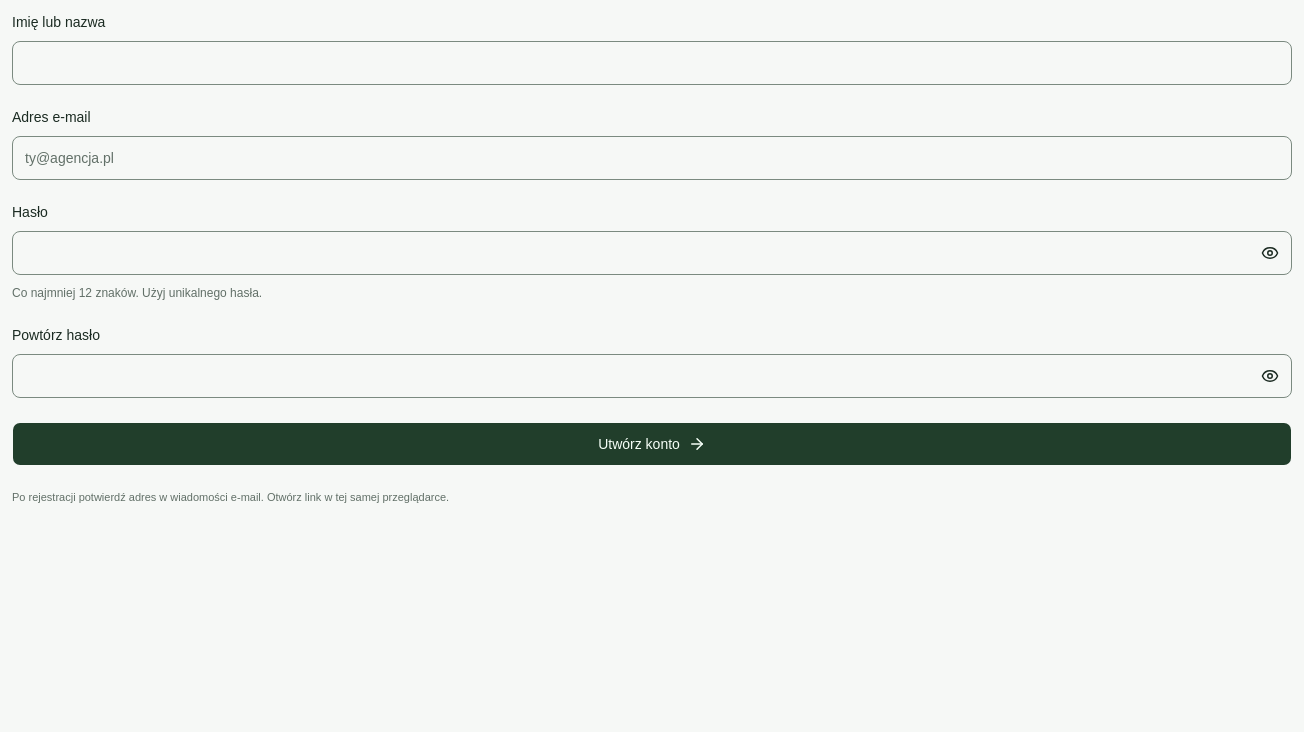
Test case: email registration form › keeps the form available after an error, focuses feedback and does not echo server text
This screenshot has width=1304, height=732.
Type " Test Person " into the field labelled "Imię lub nazwa" at (652, 63), box [12,41,1292,85]
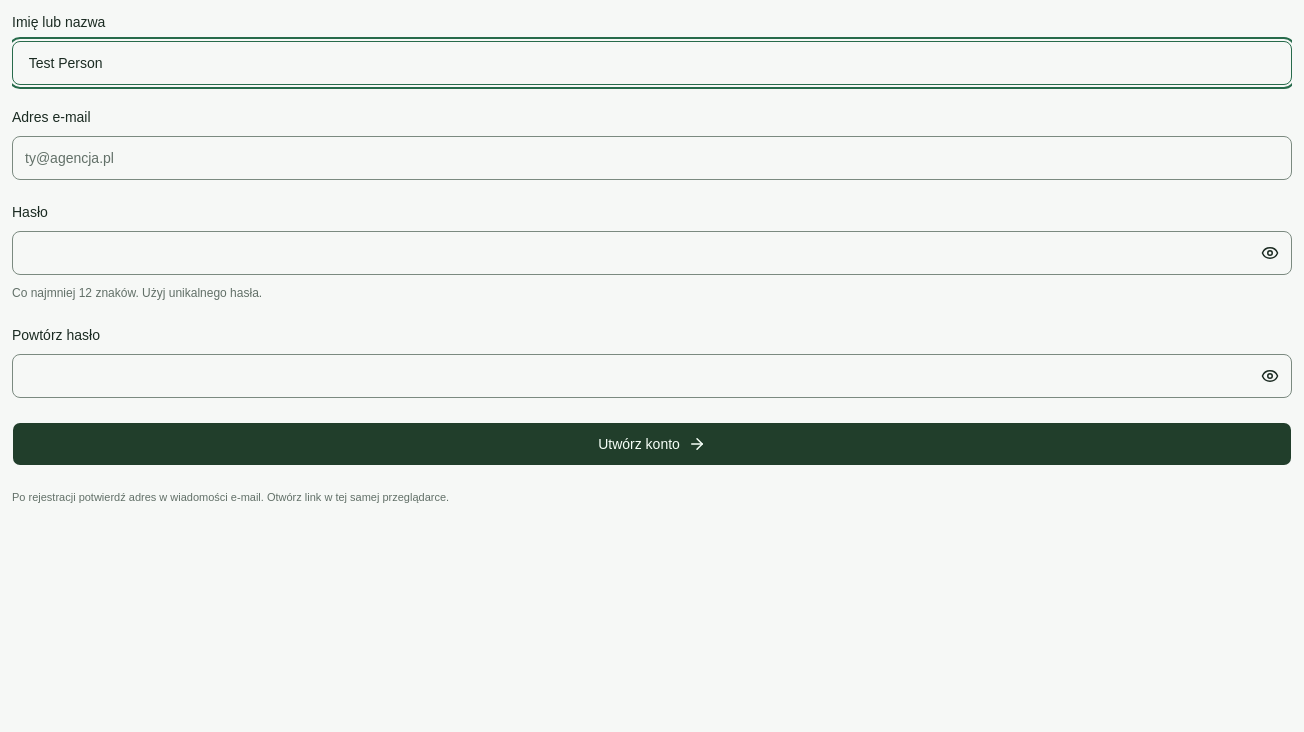
Type " PERSON@Example.test " into the field labelled "Adres e-mail" at (652, 158), box [12,136,1292,180]
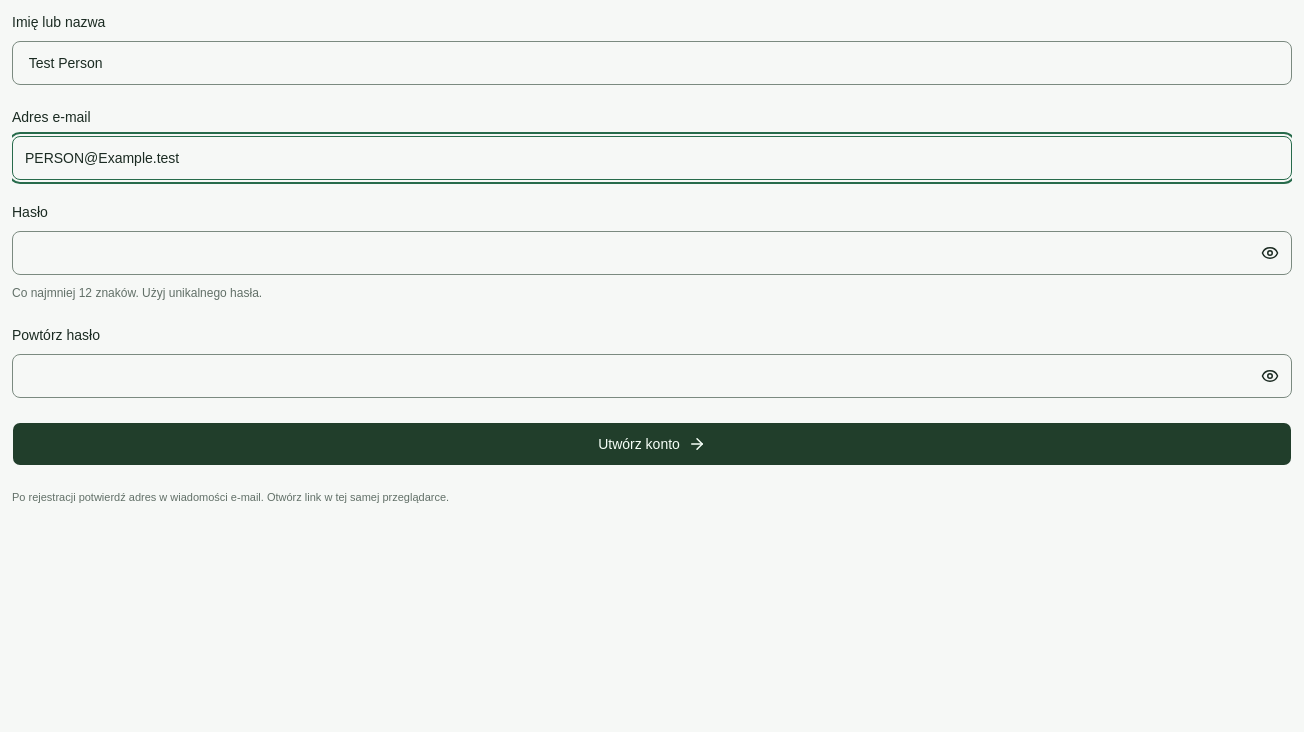
Type "unique-test-only-password" into the password field labelled "Hasło" at (652, 253), box [12,231,1292,275]
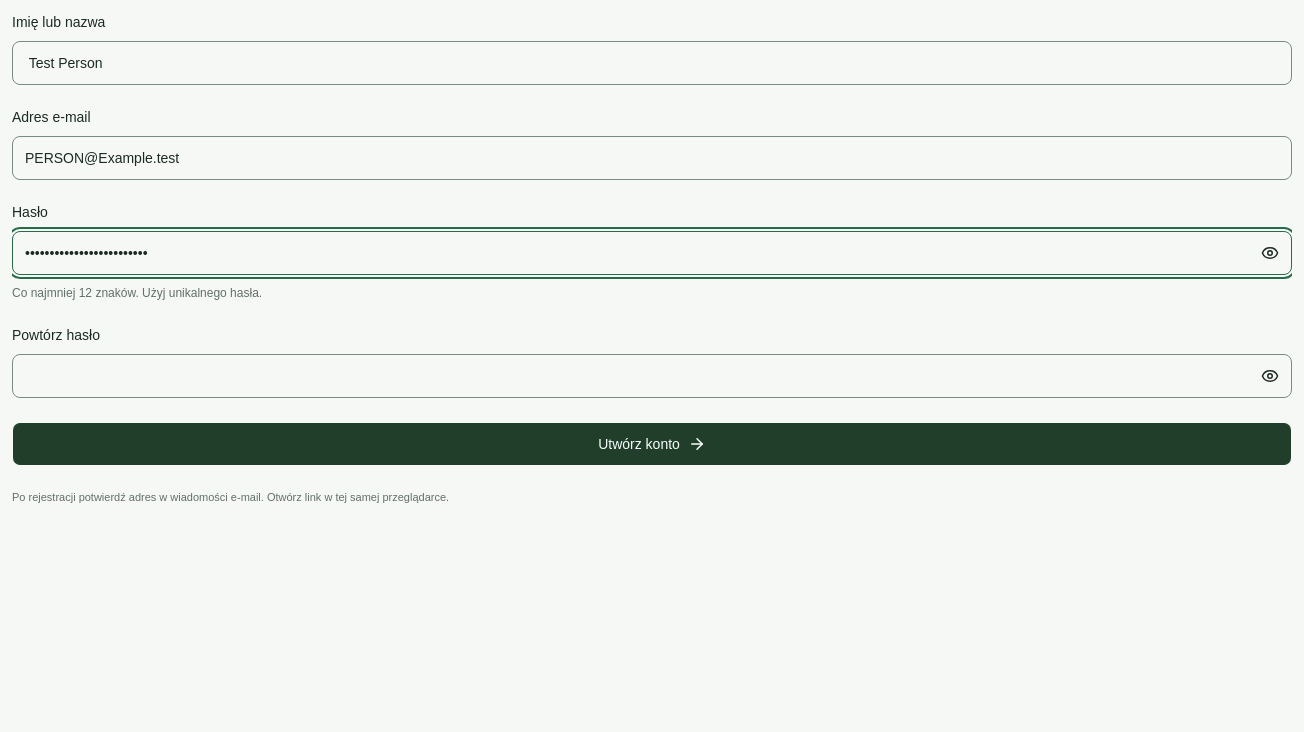
Type "unique-test-only-password" into the password field labelled "Powtórz hasło" at (652, 376), box [12,354,1292,398]
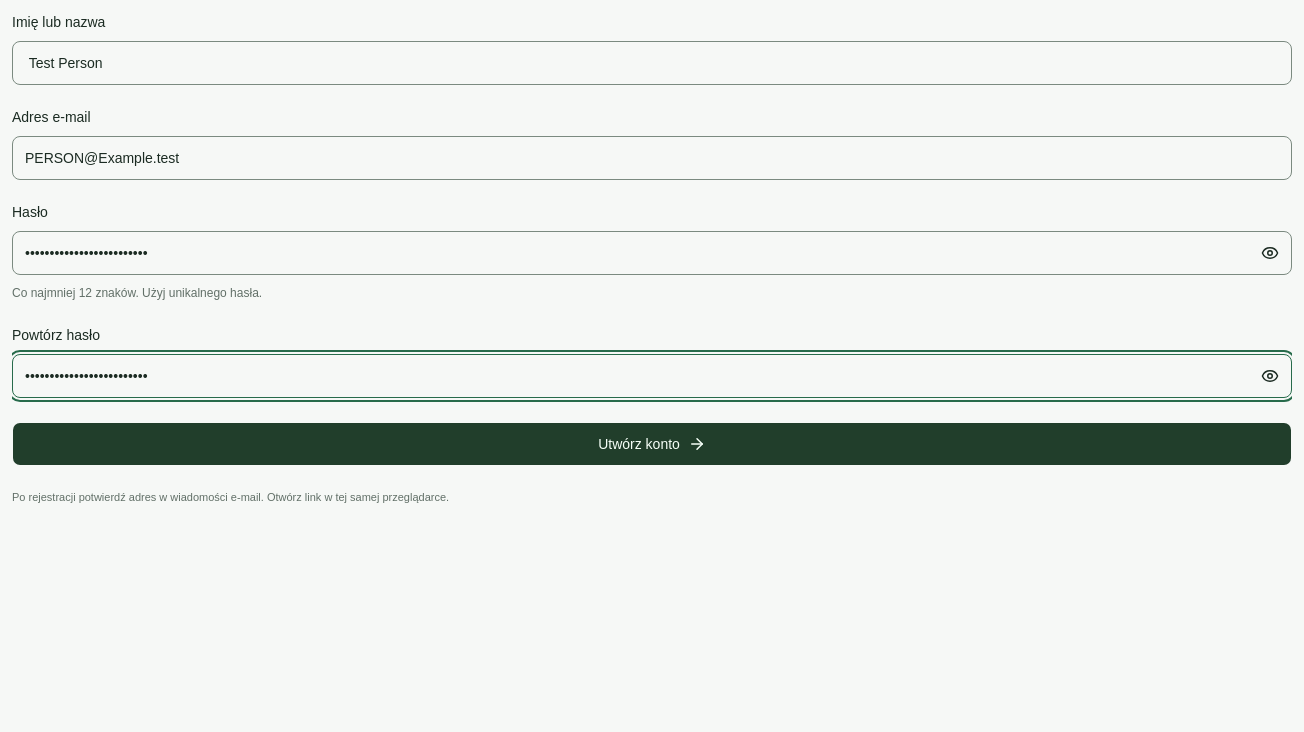
Click the button "Utwórz konto" at (652, 444), box [12,422,1292,466]
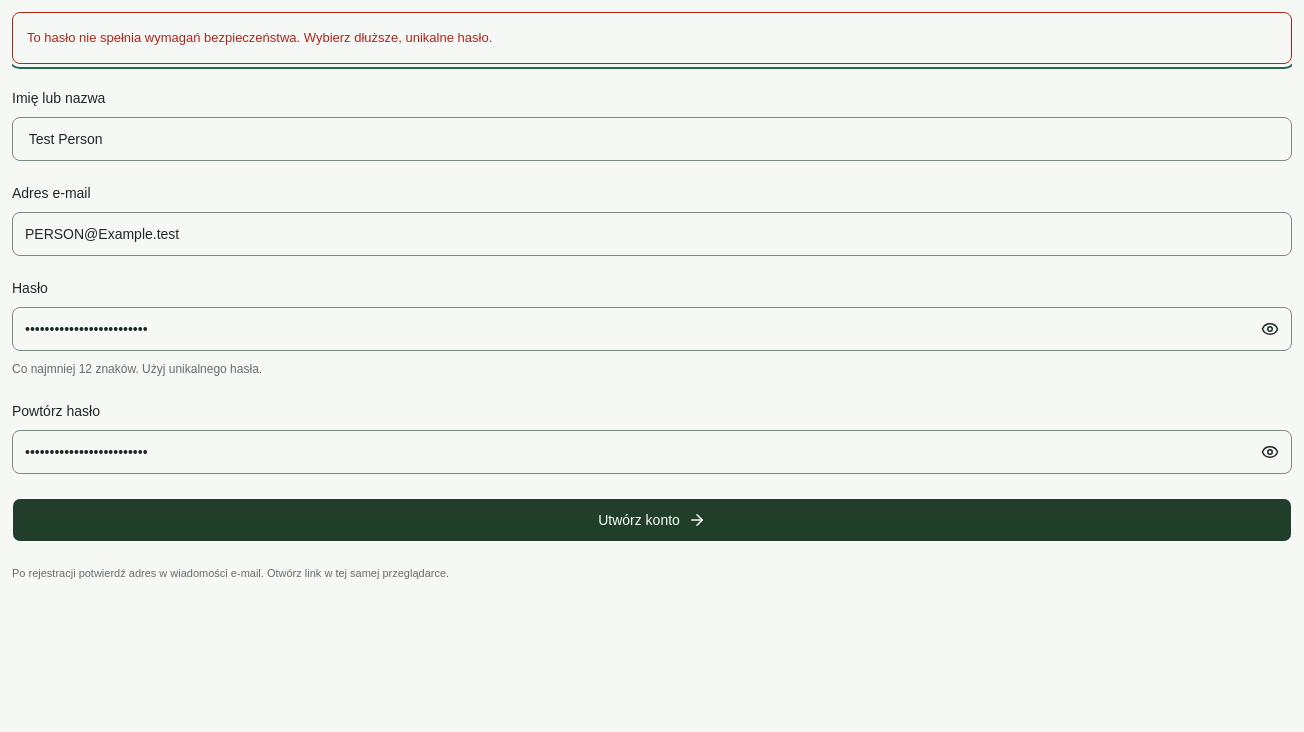
Check: the message does not show "private backend detail", box [12,12,1292,64]
Check: the message shows "To hasło nie spełnia wymagań bezpieczeństwa.", box [27,30,492,45]
